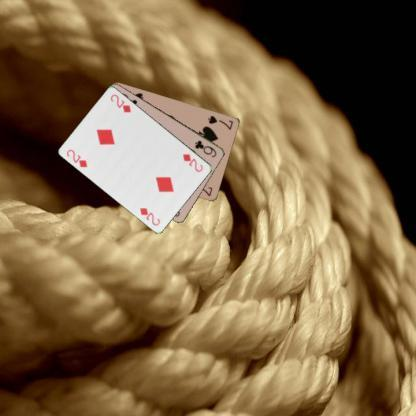2d: (180, 150, 204, 174), (64, 146, 89, 168)
6c: (192, 138, 218, 158)
7s: (206, 113, 235, 130)
